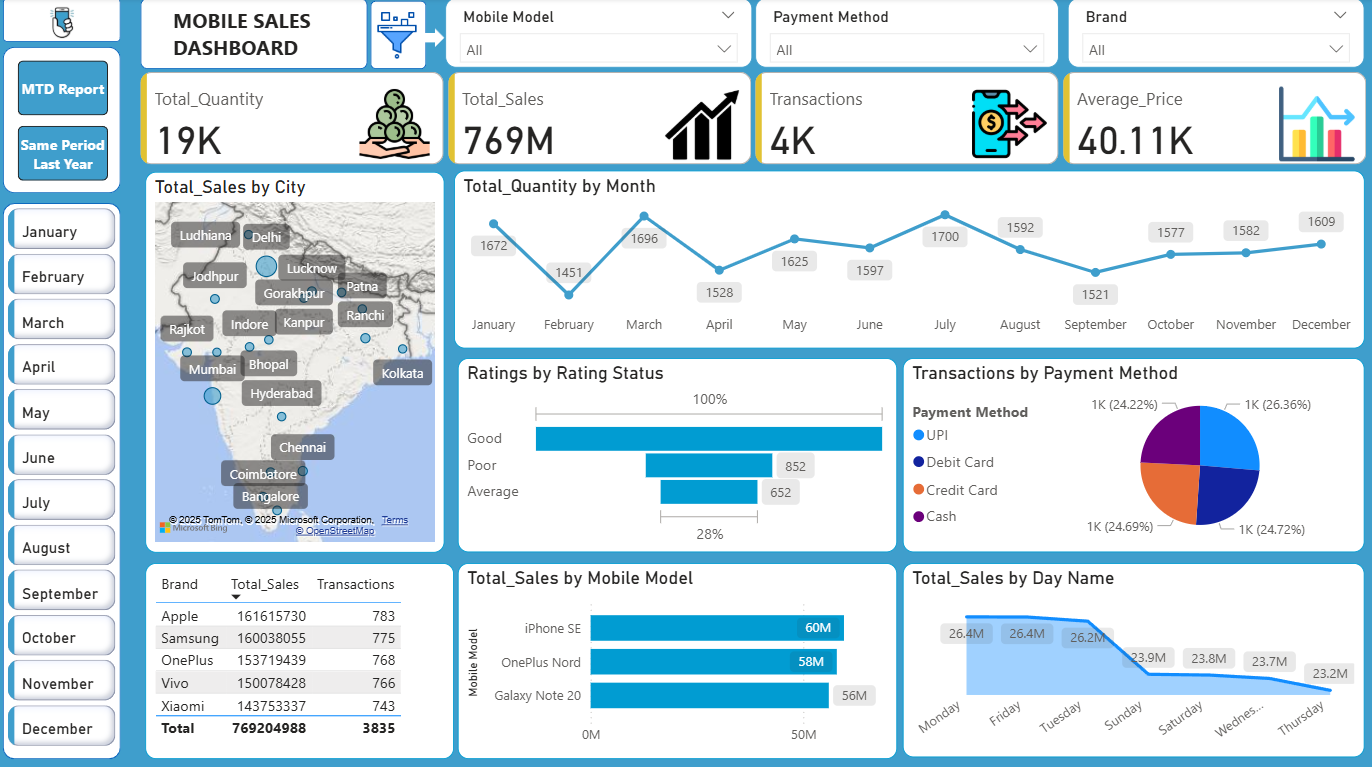

Layout of this report page (visuals, bound fields, positions):
{"tool":"powerbi","page":{"name":"Dashboard","canvas":[1280,720],"ordinal":0},"visuals":[{"type":"shape","box":[3.6,0,109.8,41],"z":0},{"type":"image","box":[33.8,0,50.7,45.8],"z":1000},{"type":"shape","box":[3.6,45.8,109.8,136.3],"z":2000},{"type":"shape","box":[3.6,190.6,109.8,517.6],"z":3000},{"type":"advancedSlicerVisual","fields":{"Values":["Custom_Calender.Date.Variation.Date Hierarchy.Month"]},"box":[3.6,190.6,111,517.6],"z":4000},{"type":"cardVisual","fields":{"Data":["Sales_Data.Total_Quantity","Sales_Data.Total_Sales","Sales_Data.Transactions","Sales_Data.Average_Price"]},"box":[126.7,63.9,1153.4,96.5],"z":5000},{"type":"slicer","fields":{"Values":["Sales_Data.Mobile Model"]},"box":[415,0,285.9,65.1],"z":6000},{"type":"slicer","fields":{"Values":["Sales_Data.Payment Method"]},"box":[703.4,0,282.3,65.1],"z":7000},{"type":"slicer","fields":{"Values":["Sales_Data.Brand"]},"box":[994.1,0,276.3,65.1],"z":8000},{"type":"shape","box":[345.3,2.3,52.3,64],"z":9000},{"type":"shape","box":[368,27.7,47.1,18.1],"z":9500},{"type":"image","box":[343,3.5,54.7,62.8],"z":10000},{"type":"map","fields":{"Category":["Sales_Data.City"],"Size":["Sales_Data.Total_Sales"]},"box":[136.3,161.7,278.7,354.7],"z":14000},{"type":"lineChart","fields":{"Category":["Custom_Calender.Date.Variation.Date Hierarchy.Month"],"Y":["Sales_Data.Total_Quantity"]},"box":[423.5,160.5,846.9,165.3],"z":15000},{"type":"funnel","title":"Ratings by Rating Status","fields":{"Category":["Sales_Data.Rating Status"],"Y":["CountNonNull(Sales_Data.Customer Ratings)"]},"box":[427.1,335.4,409,181],"z":16000},{"type":"pieChart","fields":{"Y":["Sales_Data.Transactions"],"Category":["Sales_Data.Payment Method"]},"box":[840.9,335.4,429.5,181],"z":17000},{"type":"clusteredBarChart","fields":{"Category":["Sales_Data.Mobile Model"],"Y":["Sales_Data.Total_Sales"]},"box":[427.1,526,409,182.2],"z":18000},{"type":"areaChart","fields":{"Category":["Custom_Calender.Day Name"],"Y":["Sales_Data.Total_Sales"]},"box":[840.9,526,429.5,181],"z":19000},{"type":"tableEx","fields":{"Values":["Sales_Data.Brand","Sales_Data.Total_Sales","Sales_Data.Transactions"]},"box":[136.3,526,287.1,182.2],"z":20000},{"type":"pageNavigator","box":[16.9,57.9,84.5,113.4],"z":21000},{"type":"shape","box":[131.4,0,211.6,66.3],"z":21001},{"type":"textbox","box":[157,3.5,161.6,61.6],"z":21002}]}

Visuals, with their boxes in screenshot pixels (x1, y1, x2, y2), scaled from the page's 1280x720 canvas onto the 1372x767 screenshot:
shape: (x1=4, y1=0, x2=122, y2=44)
image: (x1=36, y1=0, x2=91, y2=49)
shape: (x1=4, y1=49, x2=122, y2=194)
shape: (x1=4, y1=203, x2=122, y2=754)
advancedSlicerVisual - Custom_Calender.Date.Variation.Date Hierarchy.Month: (x1=4, y1=203, x2=123, y2=754)
cardVisual - Sales_Data.Total_Quantity x Sales_Data.Total_Sales: (x1=136, y1=68, x2=1371, y2=171)
slicer - Sales_Data.Mobile Model: (x1=445, y1=0, x2=751, y2=69)
slicer - Sales_Data.Payment Method: (x1=754, y1=0, x2=1057, y2=69)
slicer - Sales_Data.Brand: (x1=1066, y1=0, x2=1362, y2=69)
shape: (x1=370, y1=2, x2=426, y2=71)
shape: (x1=394, y1=30, x2=445, y2=49)
image: (x1=368, y1=4, x2=426, y2=71)
map - Sales_Data.City x Sales_Data.Total_Sales: (x1=146, y1=172, x2=445, y2=550)
lineChart - Custom_Calender.Date.Variation.Date Hierarchy.Month x Sales_Data.Total_Quantity: (x1=454, y1=171, x2=1362, y2=347)
"Ratings by Rating Status" funnel: (x1=458, y1=357, x2=896, y2=550)
pieChart - Sales_Data.Transactions x Sales_Data.Payment Method: (x1=901, y1=357, x2=1362, y2=550)
clusteredBarChart - Sales_Data.Mobile Model x Sales_Data.Total_Sales: (x1=458, y1=560, x2=896, y2=754)
areaChart - Custom_Calender.Day Name x Sales_Data.Total_Sales: (x1=901, y1=560, x2=1362, y2=753)
tableEx - Sales_Data.Brand x Sales_Data.Total_Sales: (x1=146, y1=560, x2=454, y2=754)
pageNavigator: (x1=18, y1=62, x2=109, y2=182)
shape: (x1=141, y1=0, x2=368, y2=71)
textbox: (x1=168, y1=4, x2=341, y2=69)
